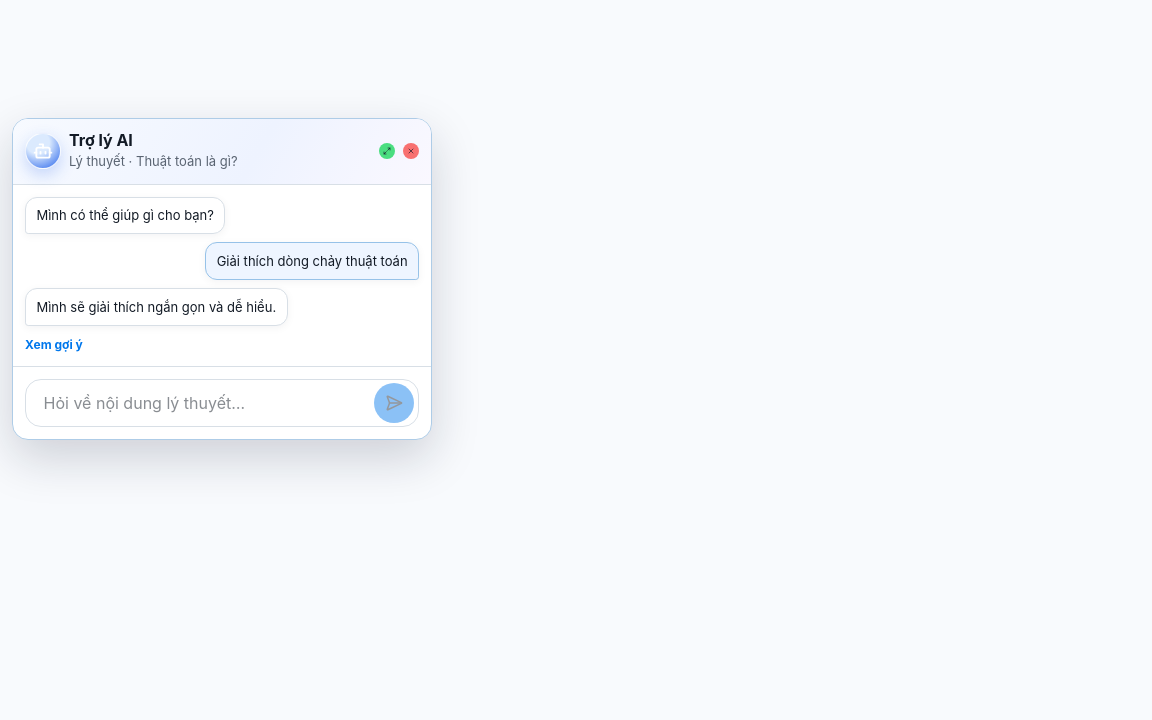
Test: AssistantQuickPopover › renders the compact conversation preview, action cards, and icon-led composer
Expected: the text "Mình có thể giúp gì cho bạn?" is shown, [36,206,214,225]
Expected: the text "Giải thích dòng chảy thuật toán" is shown, [217,252,408,270]
Click the button "Xem gợi ý". click: [54, 345]
box: [25,336,83,354]
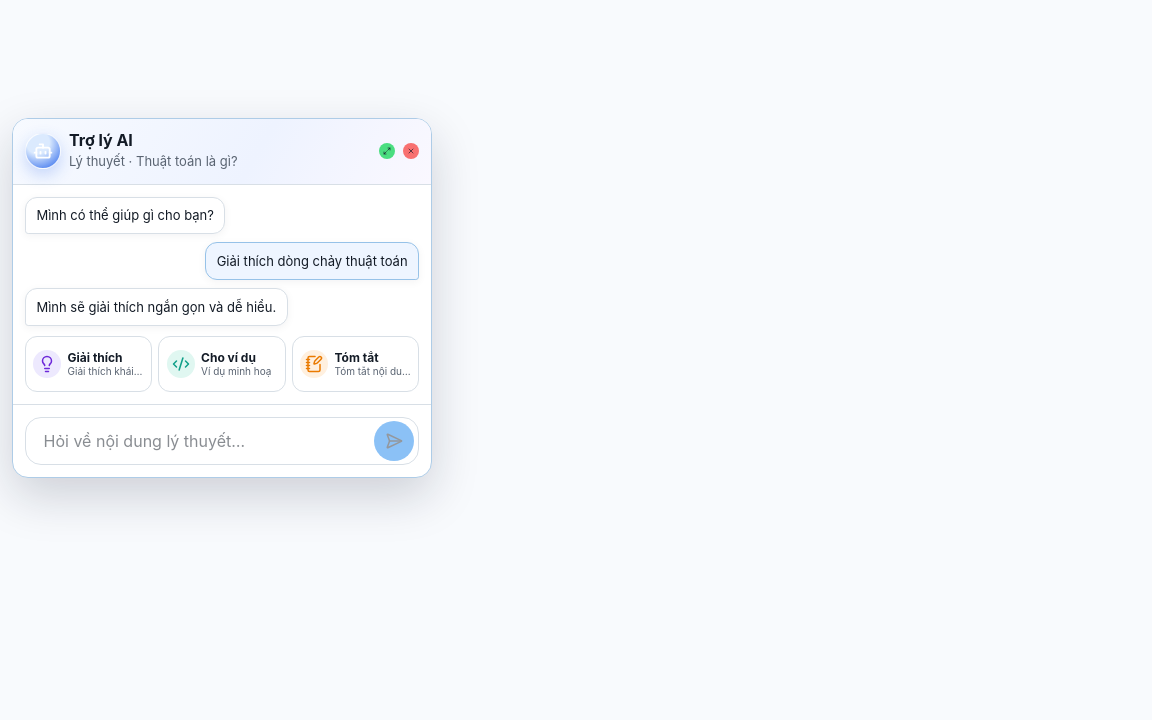
Now the button "Giải thích Giải thích khái niệm" is shown, box [25,336,152,392]
Now the button "Cho ví dụ Ví dụ minh hoạ" is shown, box [158,336,286,392]
Now the button "Tóm tắt Tóm tắt nội dung" is shown, box [292,336,419,392]
